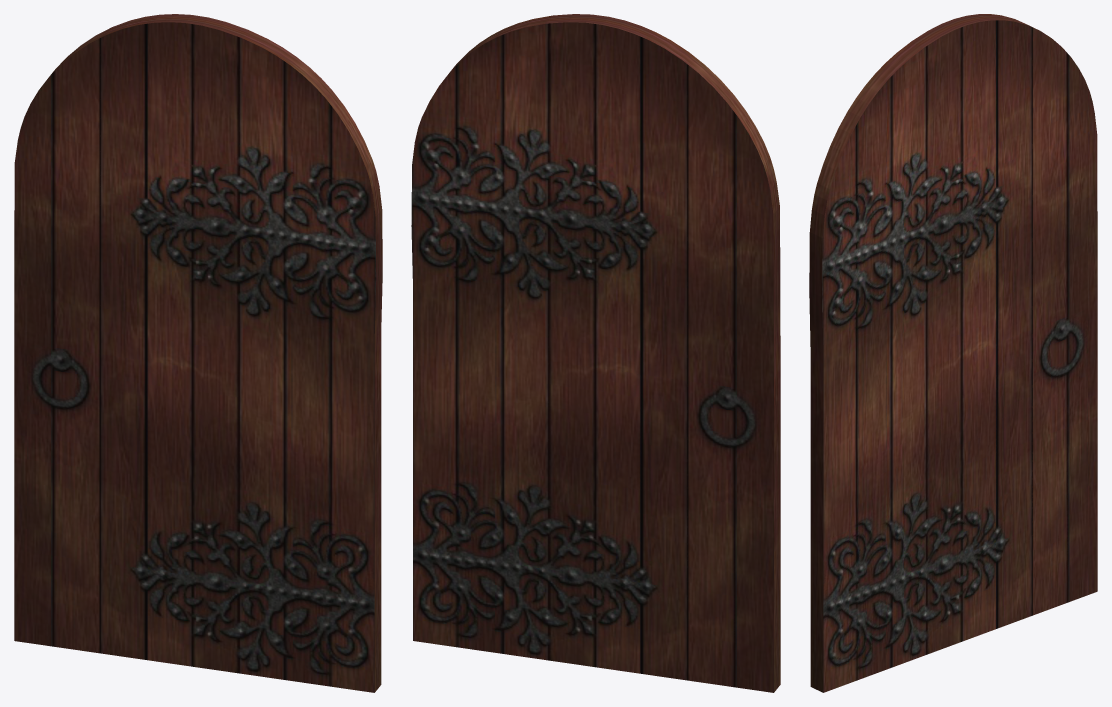
The model's file is door 15.obj.
The picture shows the model from 3 angles, left to right: view 1: azimuth 30°, elevation 25°; view 2: azimuth 210°, elevation 25°; view 3: azimuth 270°, elevation 25°; orthographic projection. The views are drawn at different scales.
Parts seen in each view (by area): view 1: door_10:Mesh; view 2: door_10:Mesh; view 3: door_10:Mesh.
Part boxes in pixels (left/top/right/bottom): door_10:Mesh: left=14, top=14, right=382, bottom=692; door_10:Mesh: left=411, top=14, right=780, bottom=692; door_10:Mesh: left=809, top=14, right=1097, bottom=692.
Size of the model in its own units: 45.15 by 120 by 50.94.
Materials: 1 (1 with a texture image).
